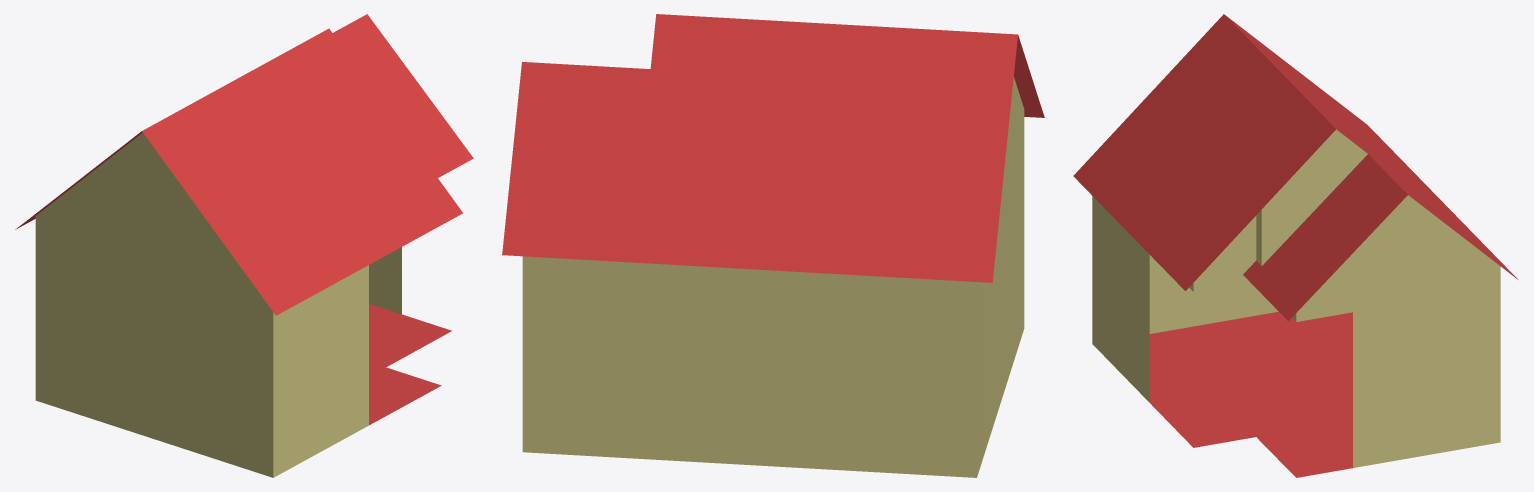
The picture shows the model from 3 angles, left to right: view 1: azimuth 30°, elevation 25°; view 2: azimuth 150°, elevation 25°; view 3: azimuth 270°, elevation 25°; orthographic projection. The views are drawn at different scales.
Bounding box in the file's own units: 15.8 × 15.17 × 11.26.
